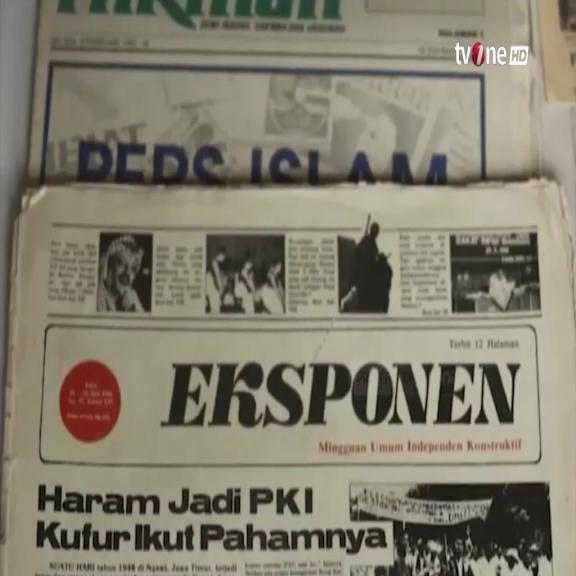Kertas: (2, 181, 568, 569), (27, 6, 539, 190)
